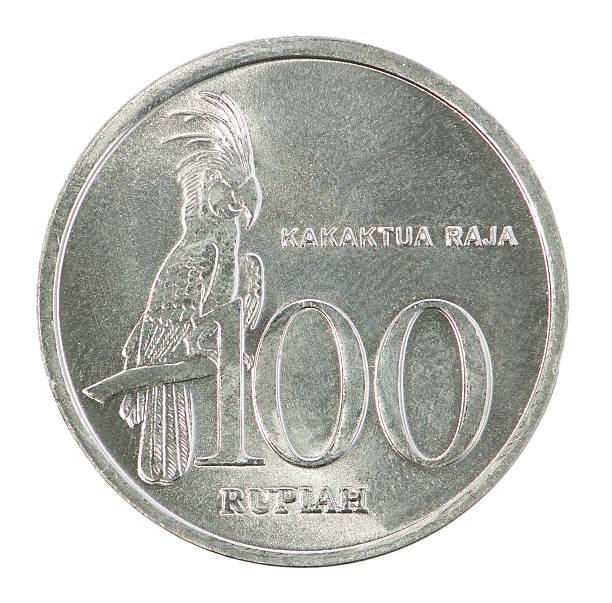coin_100_e1999: (33, 27, 573, 576)
